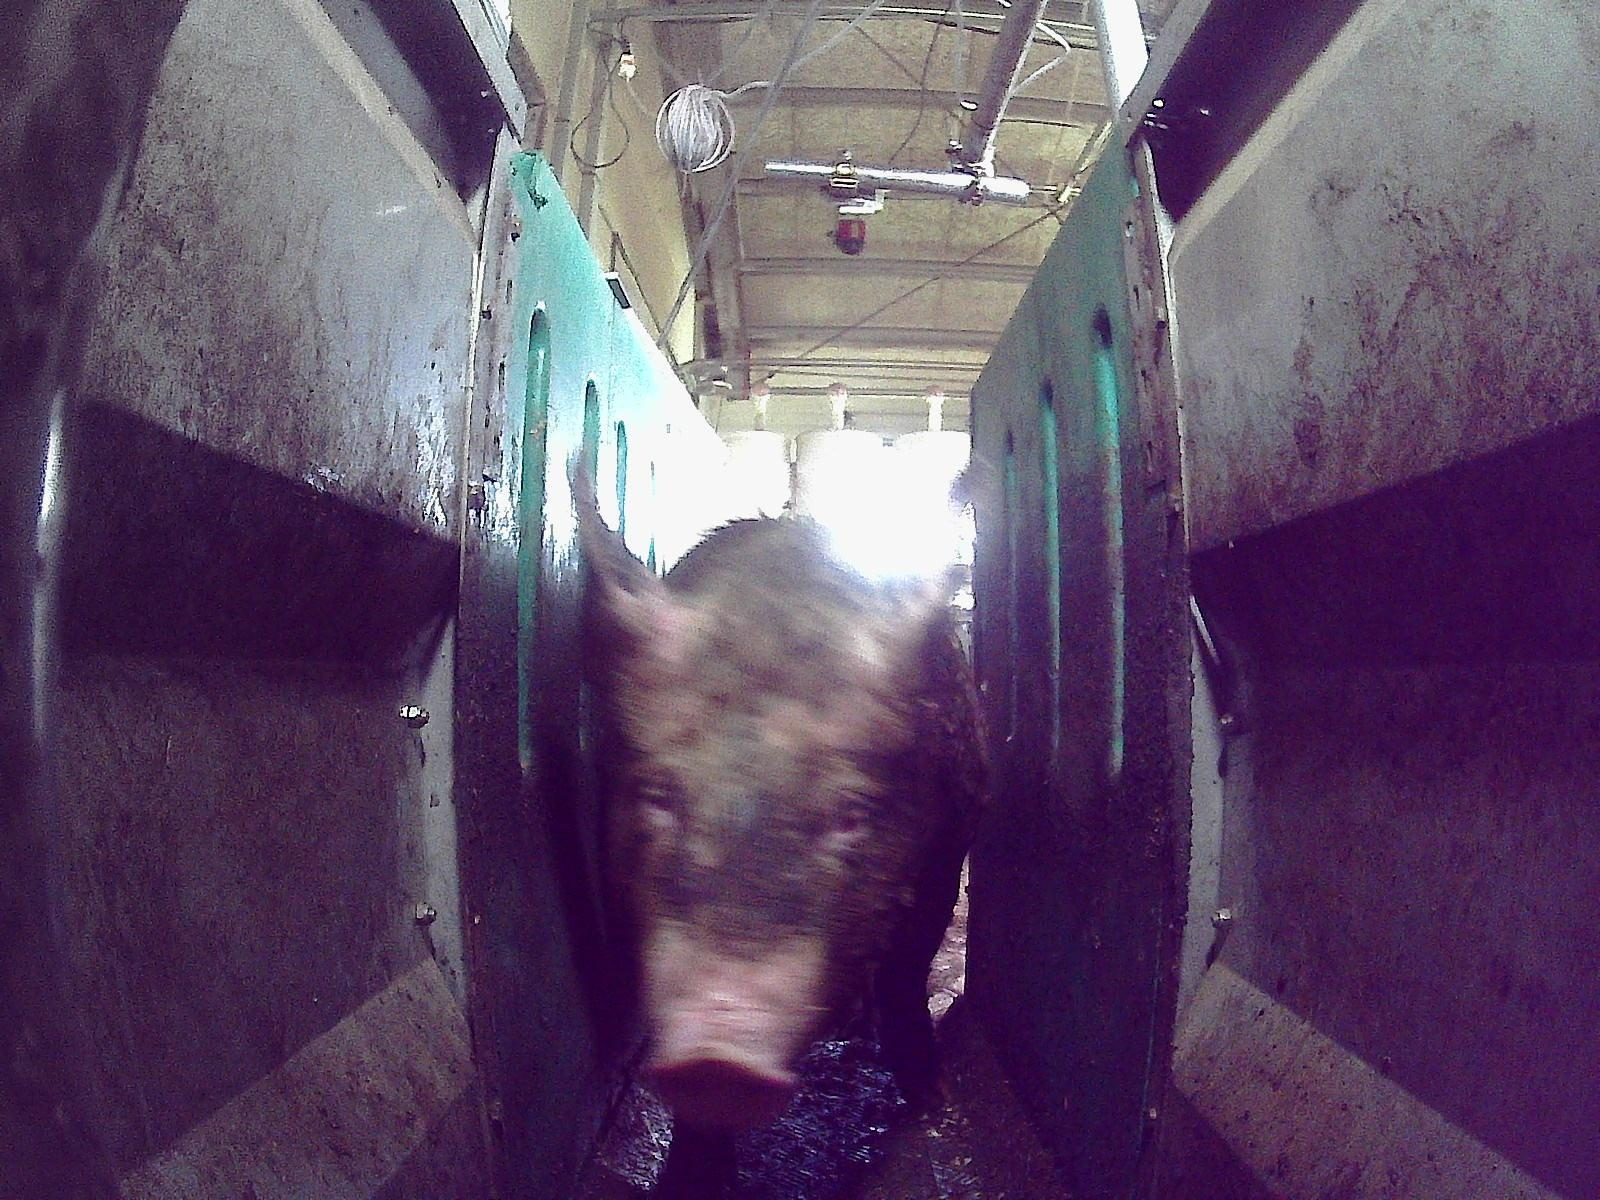Face: (617, 618, 905, 1128)
